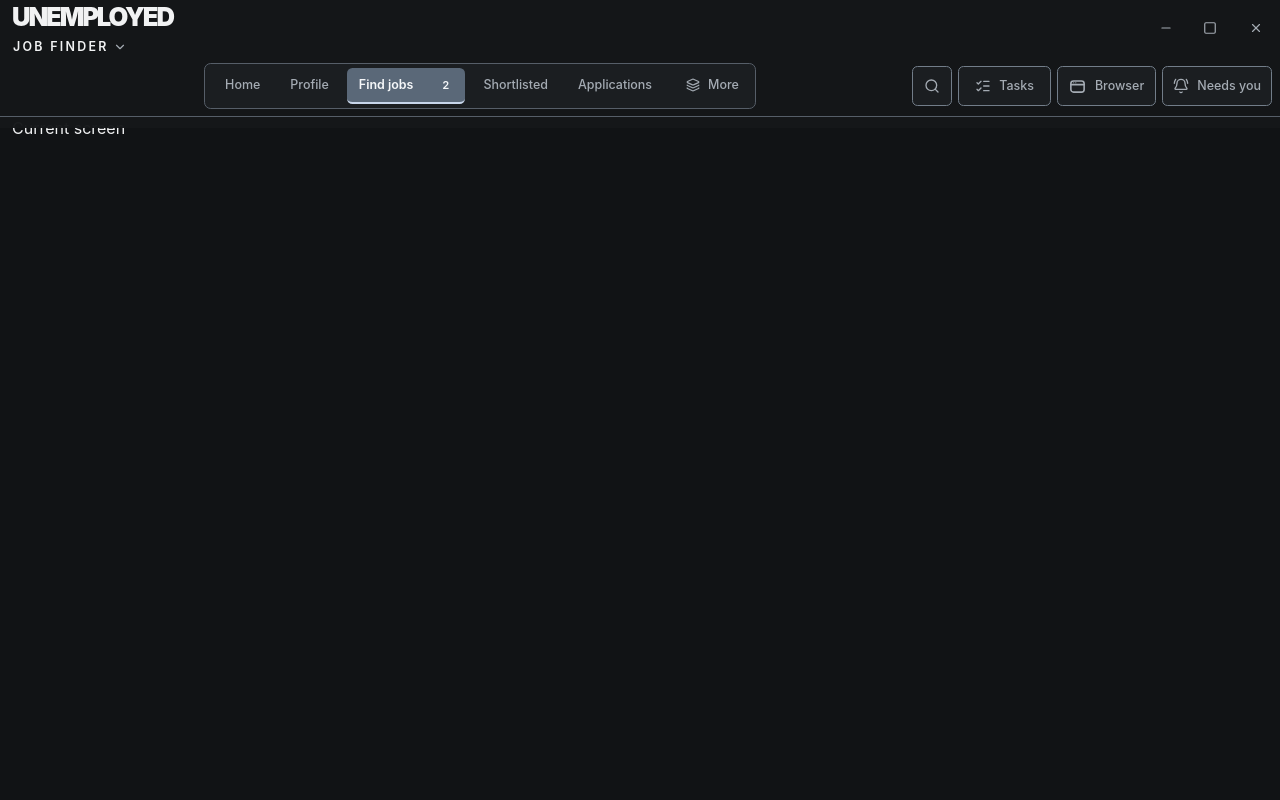
Test: JobFinderShell stacked overlay ownership › still summons search with Cmd+K while the Planning menu owns the surface
This screenshot has width=1280, height=800.
Step 1. Click the button "More" → (712, 86), box [674,68,751,104]
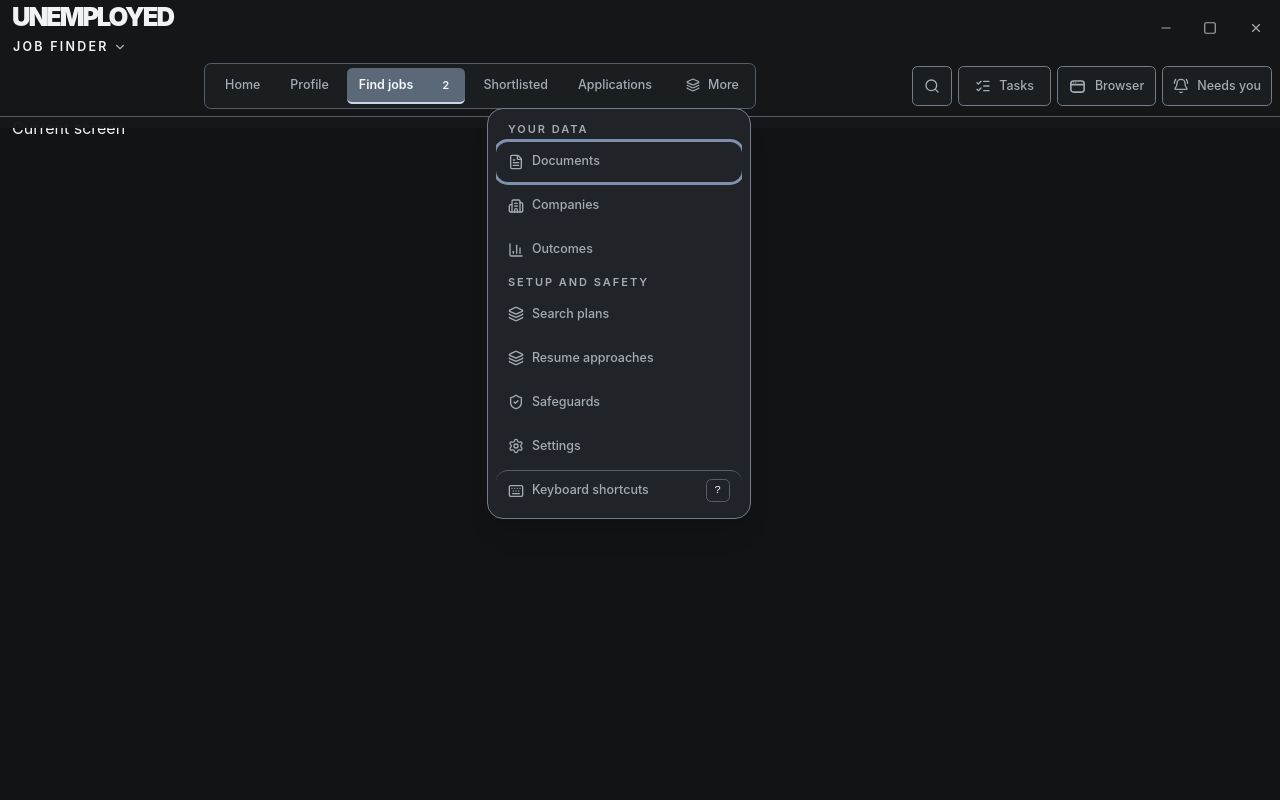
Step 2. Press k
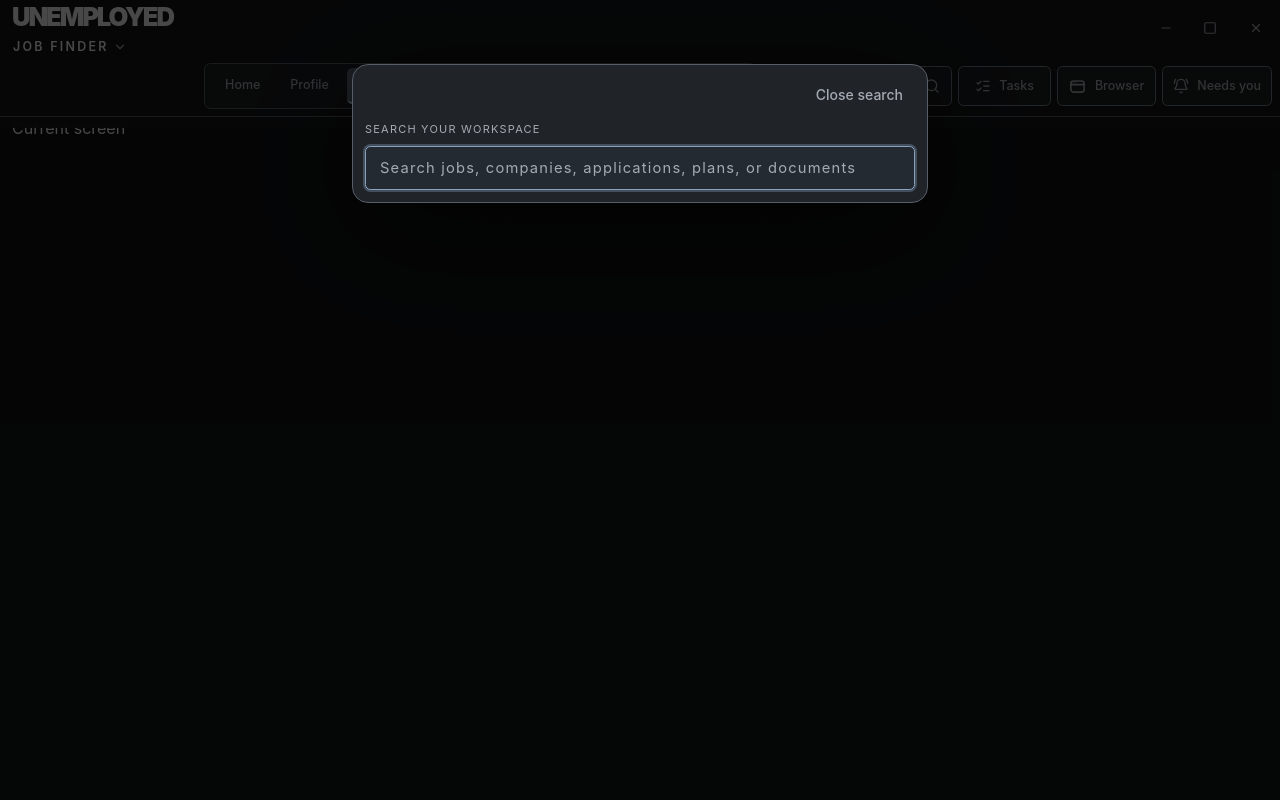
Check: the dialog "Search your workspace" is shown, box [352,64,928,202]
